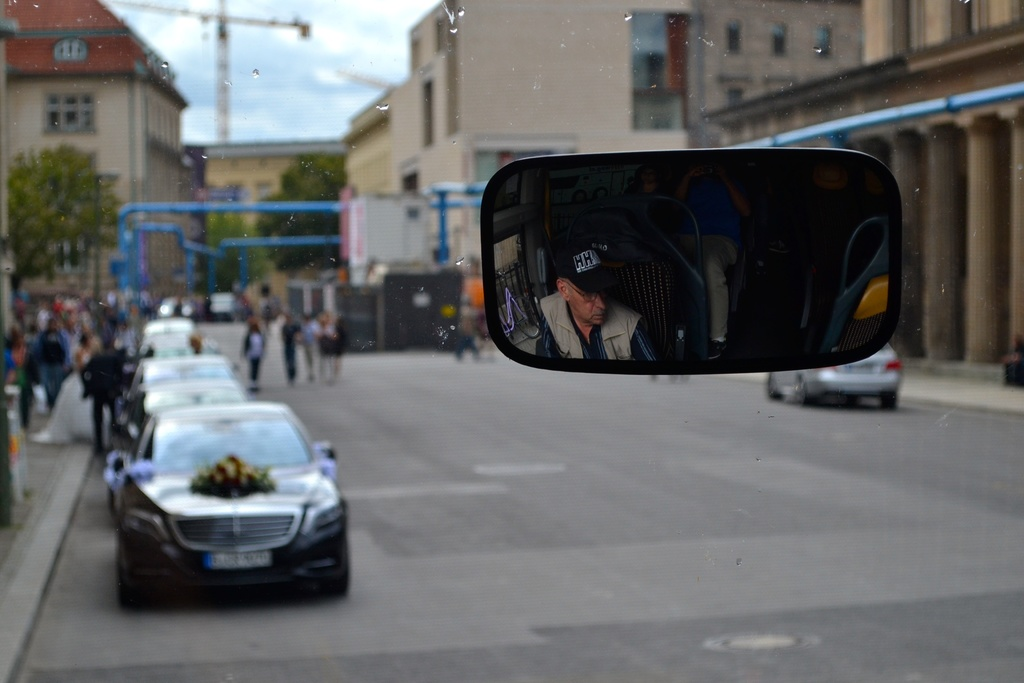mobil: (127, 409, 352, 607)
